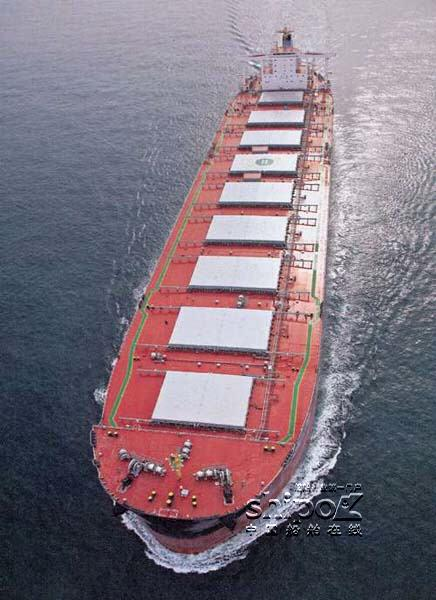Cargoship: (81, 16, 342, 564)
